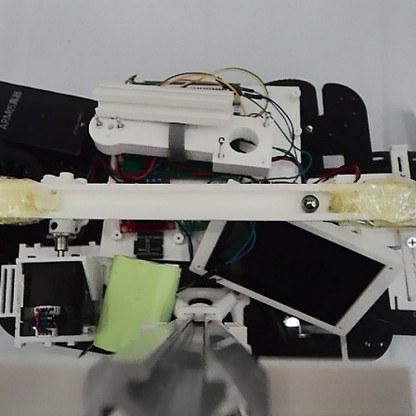ironball: (298, 191, 320, 214)
